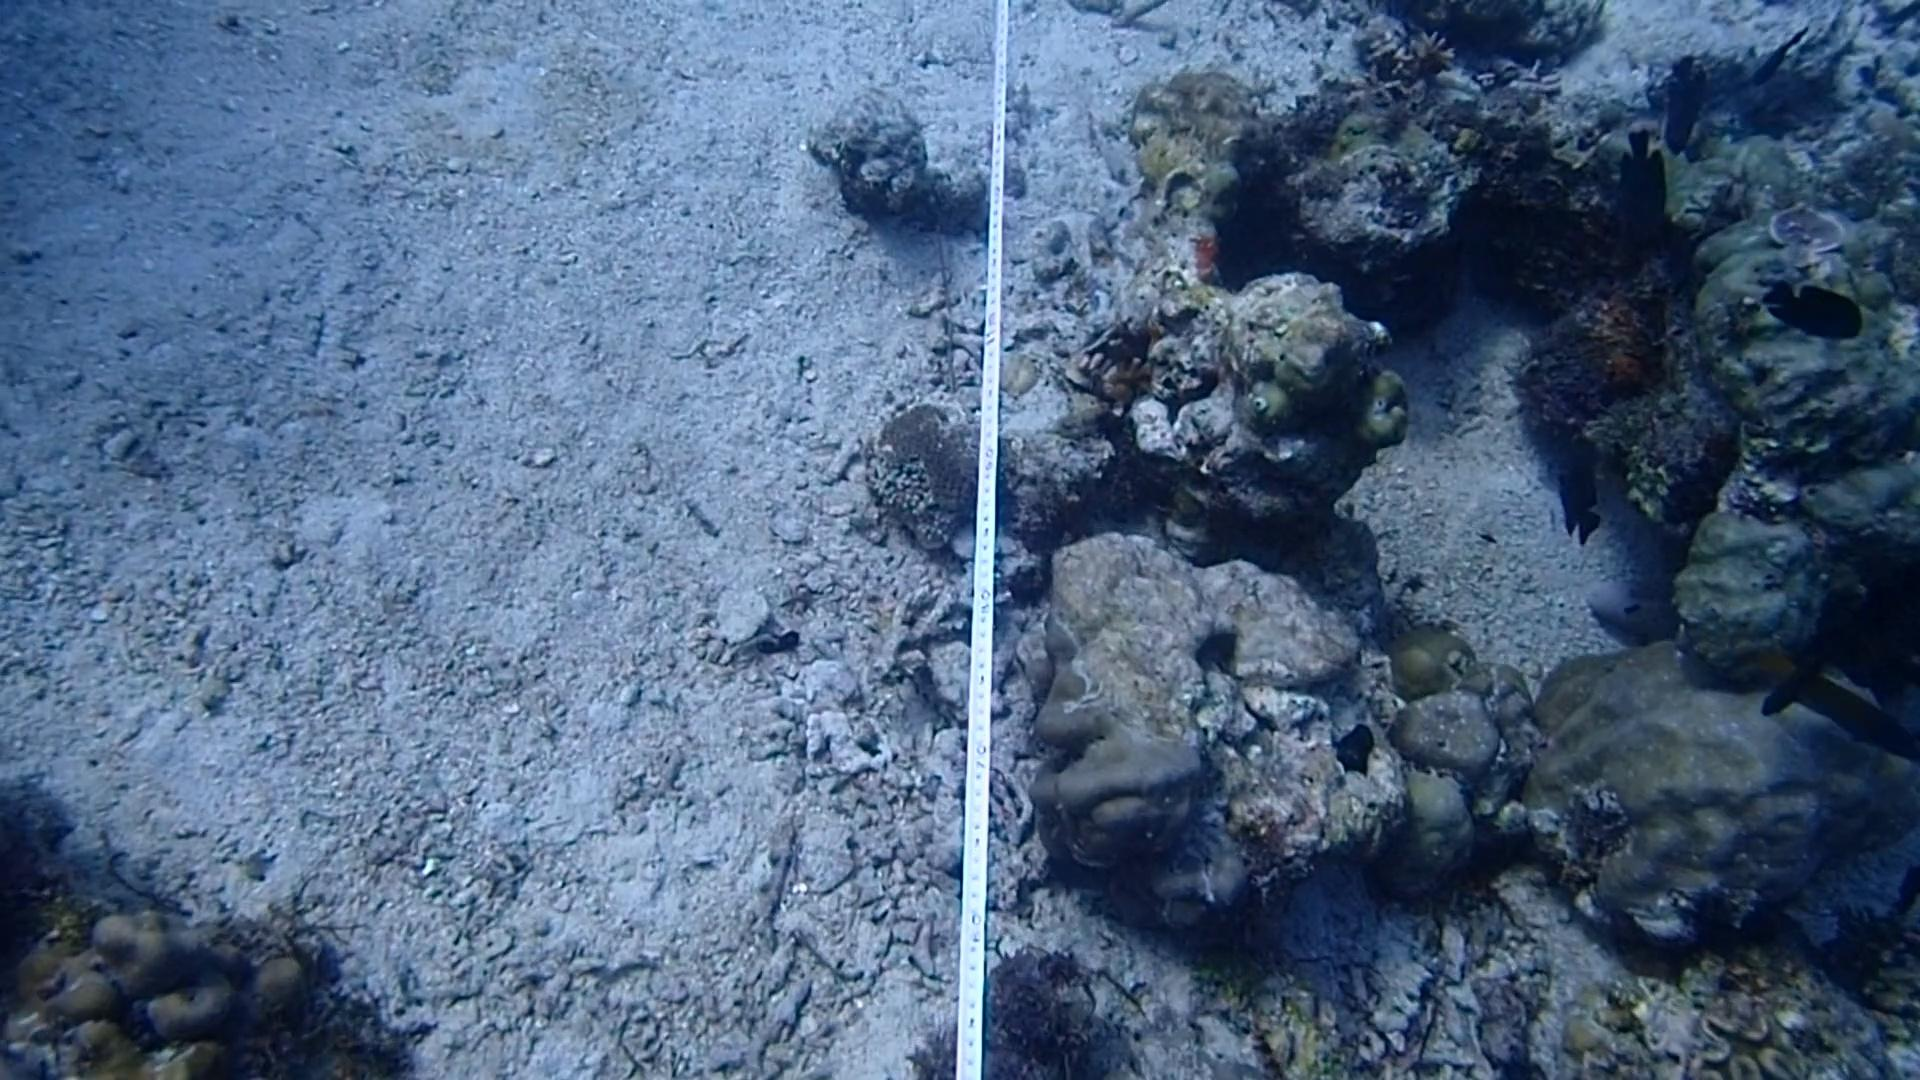Dark Fish: (1742, 260, 1869, 349), (1636, 34, 1722, 160), (1534, 430, 1610, 551), (1605, 120, 1677, 247), (1747, 634, 1842, 723), (1735, 22, 1813, 92)
Half Blue - Half Yellow: (1746, 625, 1920, 787)
